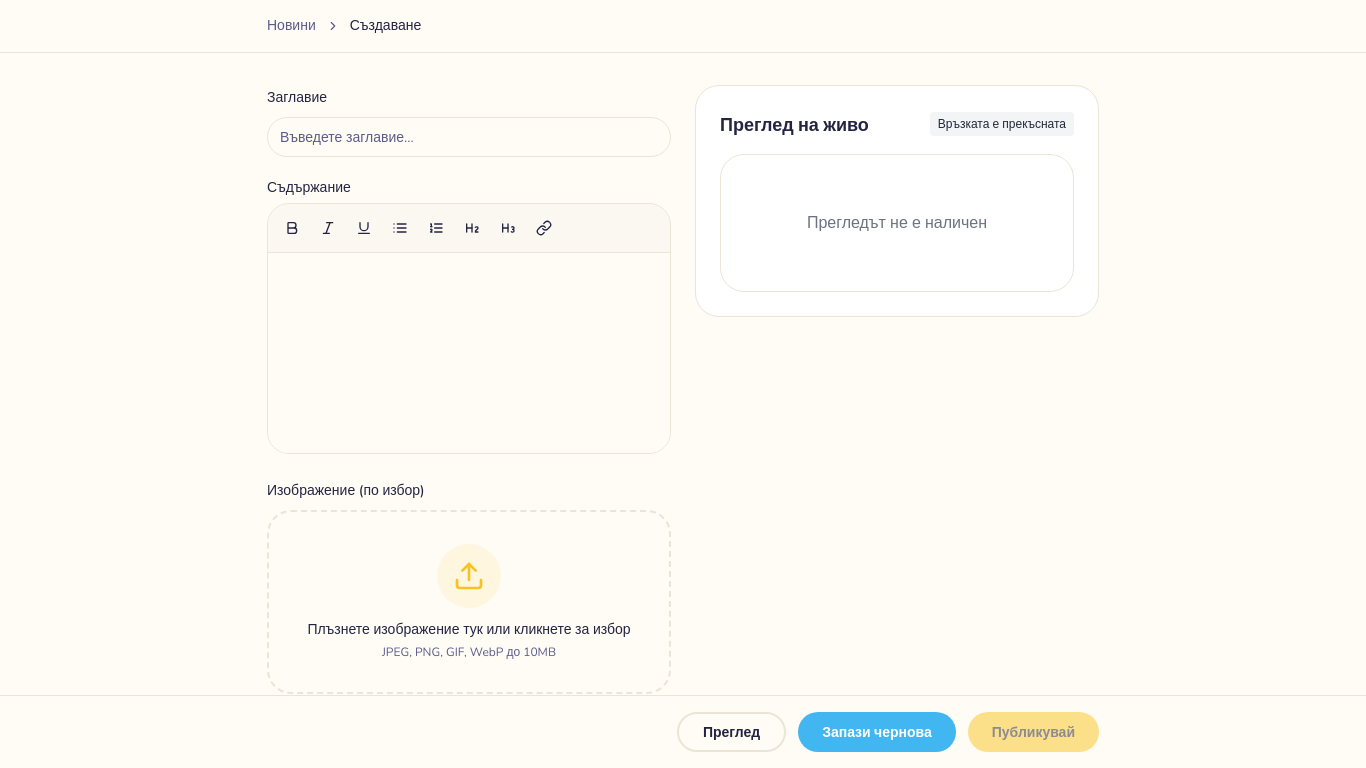
Scenario: NewsCreate › Preview Modal Integration › PreviewModal displays current form values (title, content)
Note: Fill in form
In the field labelled "Заглавие": (469, 137) 267,117 -> 671,157, type "Test News Title"
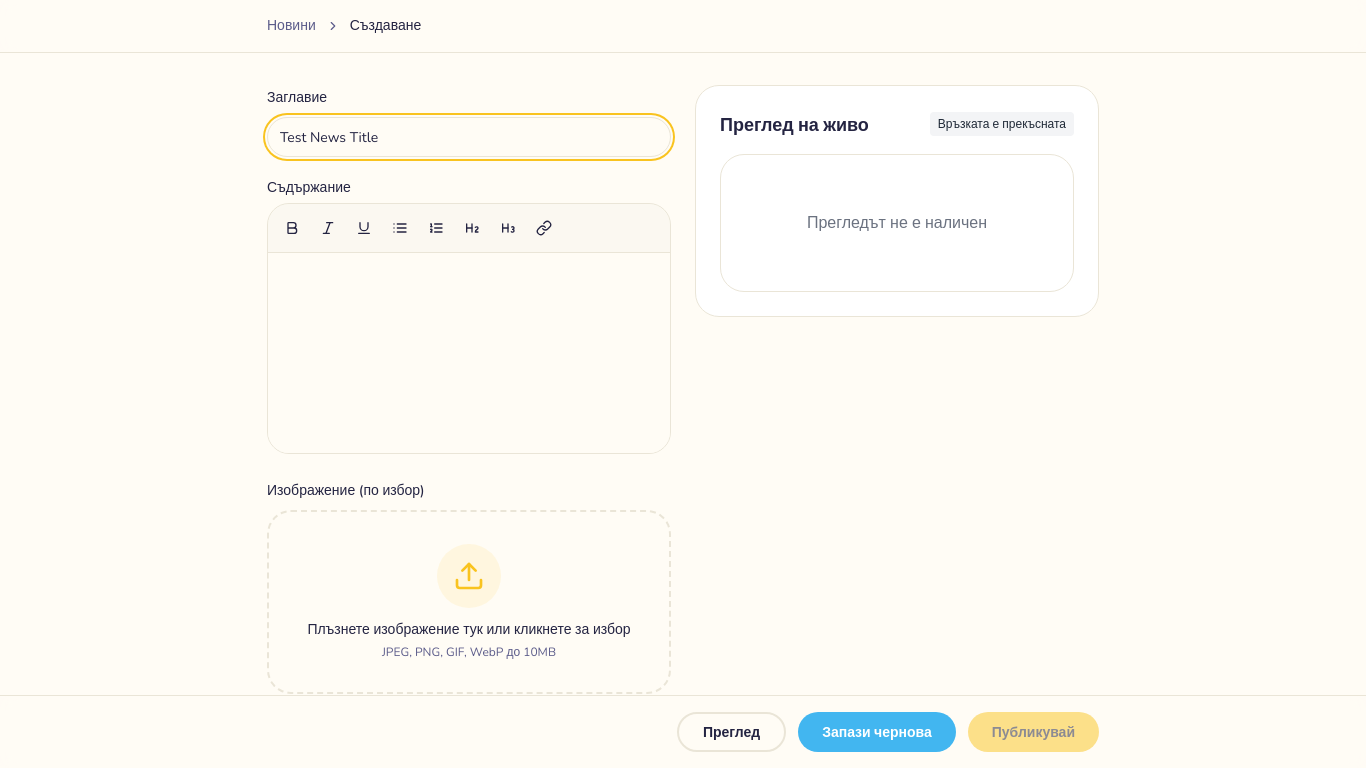
Note: Open preview
Click the button "Преглед": (732, 732) 677,712 -> 786,752
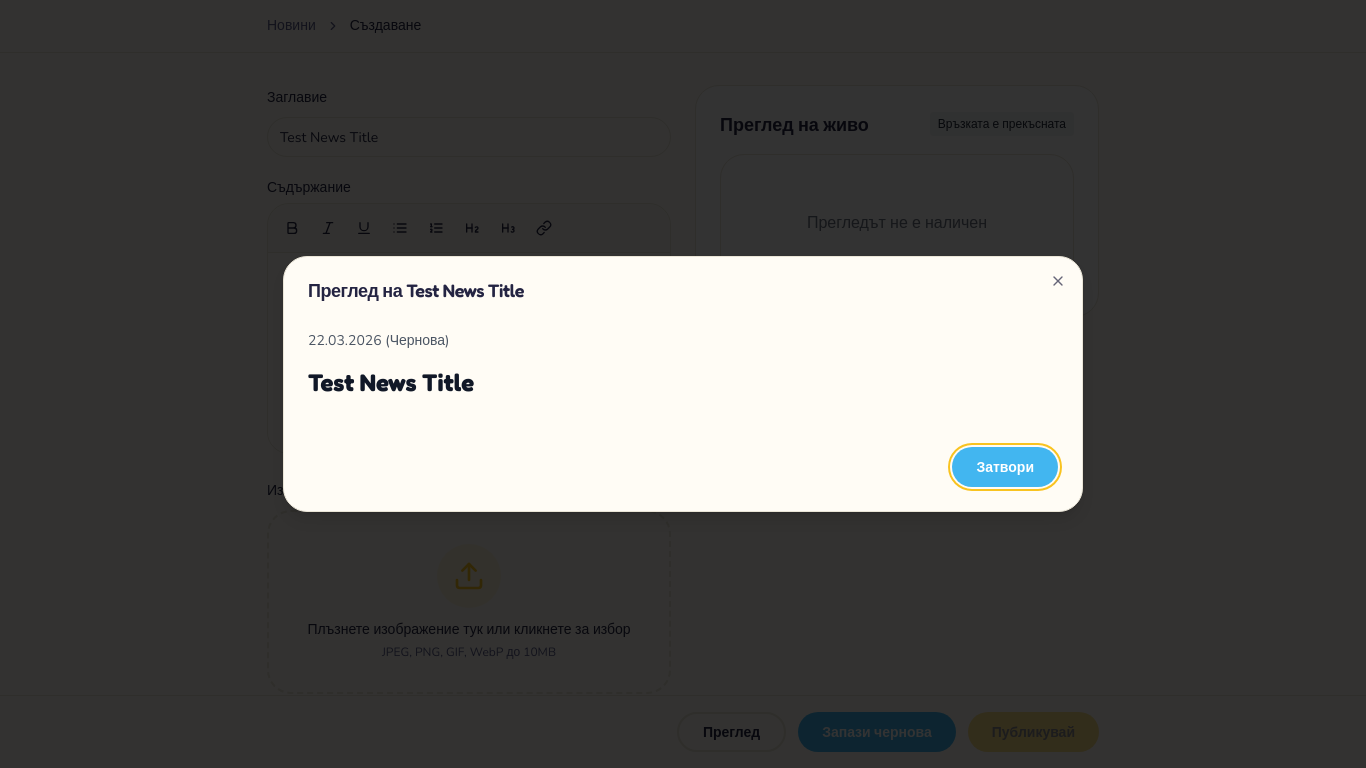
Now the heading "Преглед на Test News Title" is shown, box 308,279 -> 524,301
Now the heading "Test News Title" is shown, box 308,368 -> 474,397
